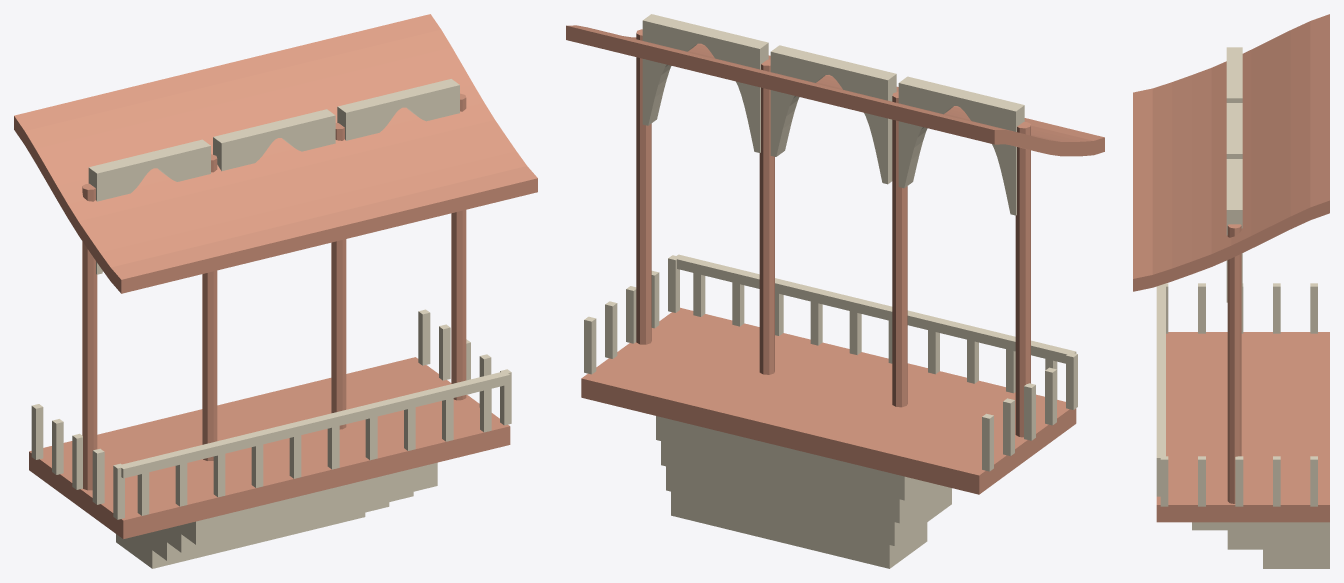
Rendered from kit_jharokha.glb.
3 renders of one model, left to right at view 1: azimuth 30°, elevation 25°; view 2: azimuth 150°, elevation 25°; view 3: azimuth 270°, elevation 25°, orthographic. The views are drawn at different scales.
Visible parts, largest first — view 1: kit_jharokha; view 2: kit_jharokha; view 3: kit_jharokha.
Part boxes in pixels (x1,y1,x2,y2): kit_jharokha: (14,14,537,568); kit_jharokha: (566,14,1104,568); kit_jharokha: (1133,14,1329,568).
Size of the model in its own units: 2.8 by 2.9 by 1.25.
